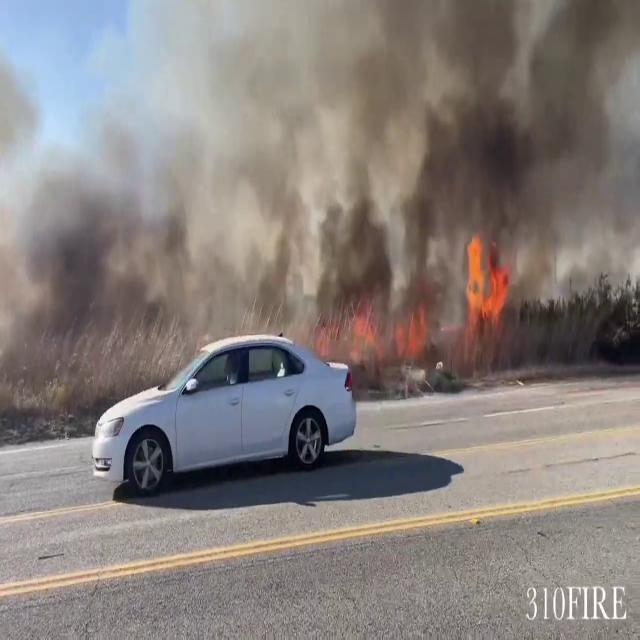Fire: (458, 226, 514, 340), (352, 306, 382, 365)
Smoke: (3, 0, 635, 342)
